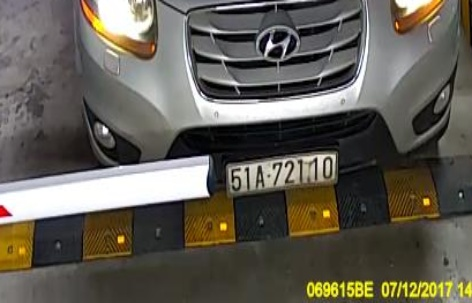plate: (221, 144, 343, 201)
